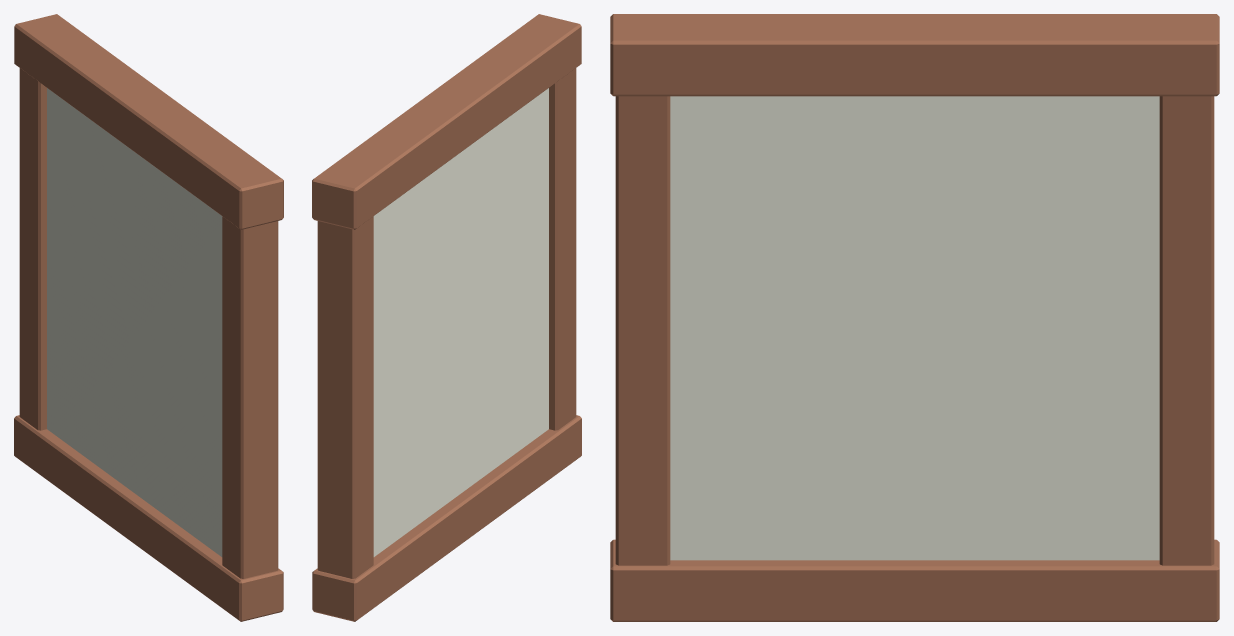
File: Wall_1.fbx
The picture shows the model from 3 angles, left to right: view 1: azimuth 30°, elevation 25°; view 2: azimuth 150°, elevation 25°; view 3: azimuth 270°, elevation 25°; orthographic projection. The views are drawn at different scales.
Parts seen in each view (by area): view 1: Wall_1; view 2: Wall_1; view 3: Wall_1.
Boxes of the visible parts, box(x1,y1,x2,y2) form: Wall_1: box(14, 14, 283, 621); Wall_1: box(312, 14, 581, 621); Wall_1: box(610, 14, 1219, 621).
Bounding box in the file's own units: 22.79 × 211 × 200.
